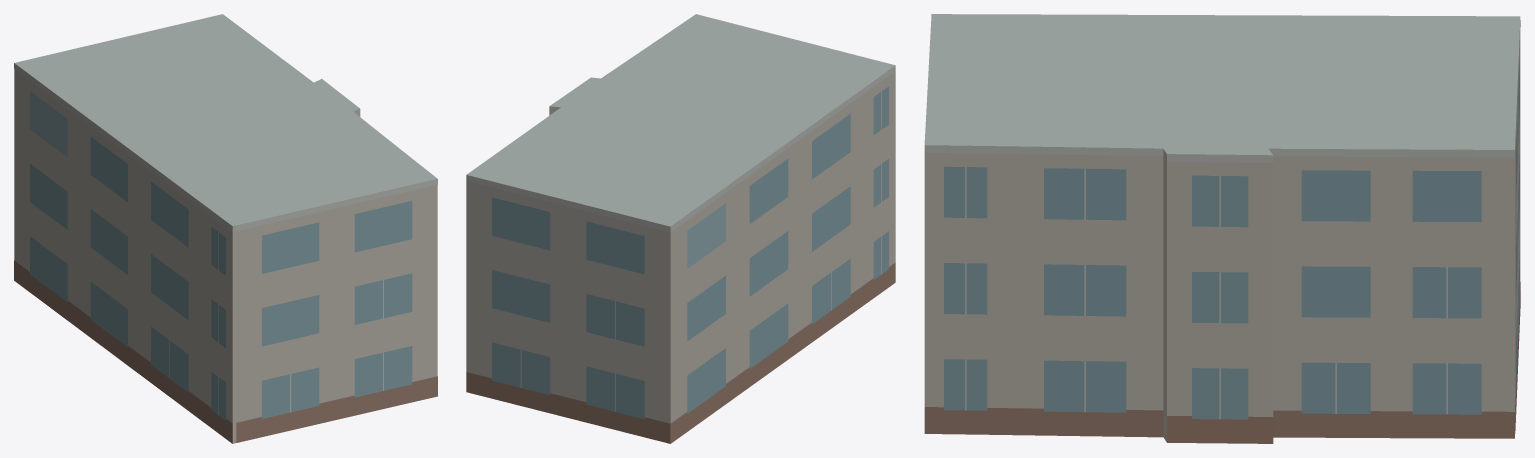
File: survey-upis-32910310.glb
The picture shows the model from 3 angles, left to right: view 1: azimuth 30°, elevation 25°; view 2: azimuth 150°, elevation 25°; view 3: azimuth 270°, elevation 25°; orthographic projection. The views are drawn at different scales.
Visible parts, largest first — view 1: survey-upis-32910310.tmp; view 2: survey-upis-32910310.tmp; view 3: survey-upis-32910310.tmp.
Boxes of the visible parts, box(x1,y1,x2,y2) form: survey-upis-32910310.tmp: box(14, 14, 437, 443); survey-upis-32910310.tmp: box(466, 14, 895, 443); survey-upis-32910310.tmp: box(924, 14, 1520, 443).
Bounding box in the file's own units: 9.61 × 9.15 × 17.13.
